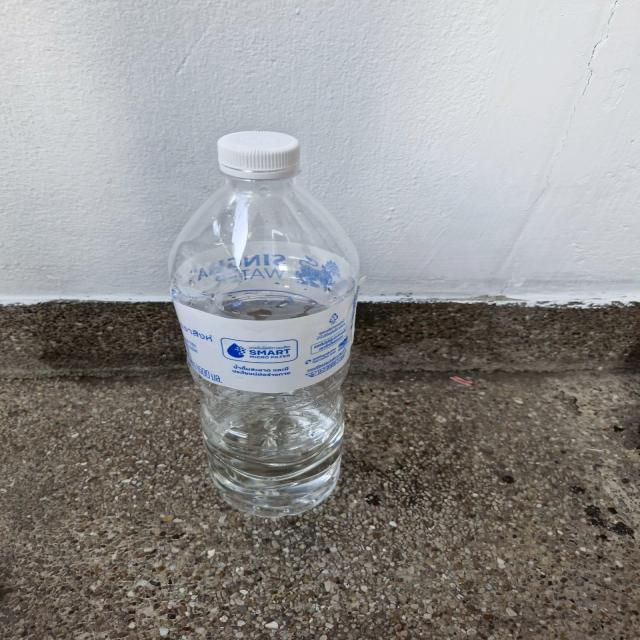plastic bottle: (171, 129, 359, 516)
